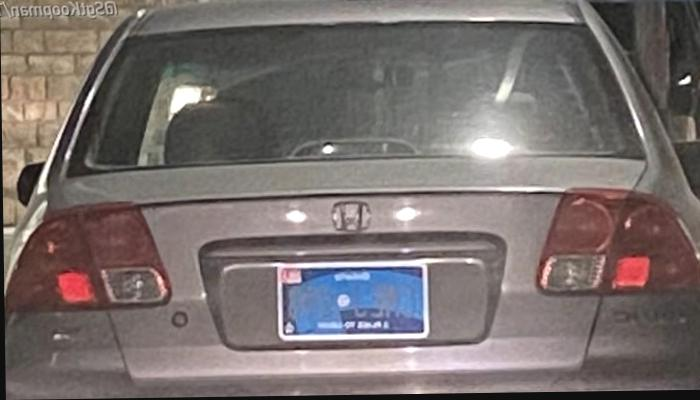License_Plate: (269, 255, 434, 347)
